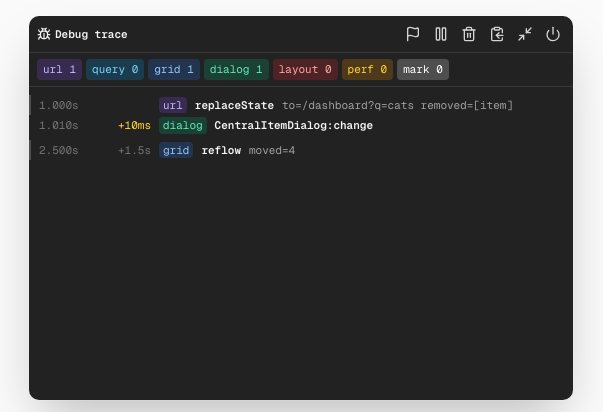
Test: DebugPanel › hides a channel when its filter is toggled off
Click the button "grid 1" at (174, 69), box x1=148 y1=59 x2=200 y2=80
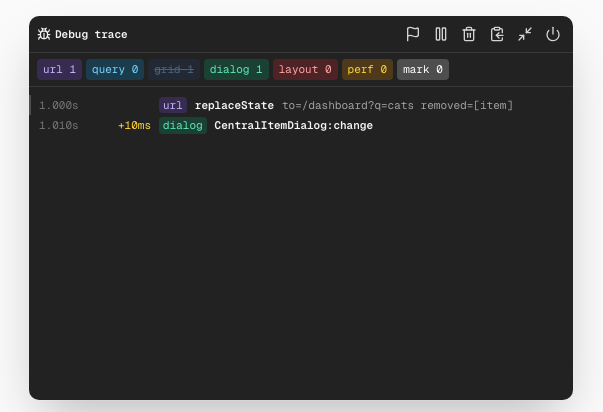
Result: the button "reflow" is gone
